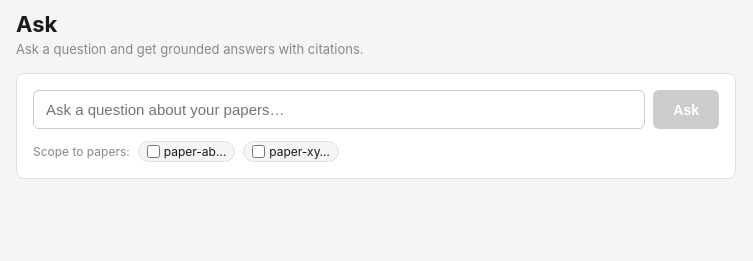
Test case: Ask screen › shows loading state while asking
The image size is (753, 261).
Type "test question" into the field with test id "ask-input".
click(339, 110); type("test question")  # box [33, 90, 645, 129]
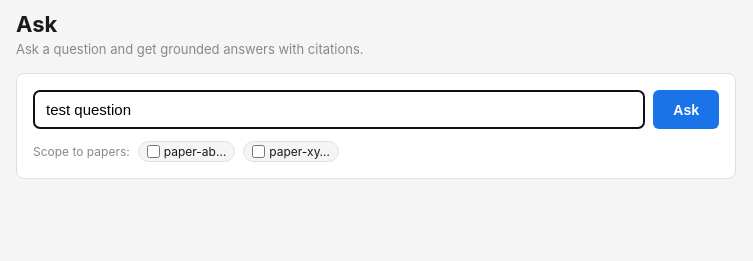
Click the button with test id "ask-submit".
click(686, 110)  # box [653, 90, 719, 129]
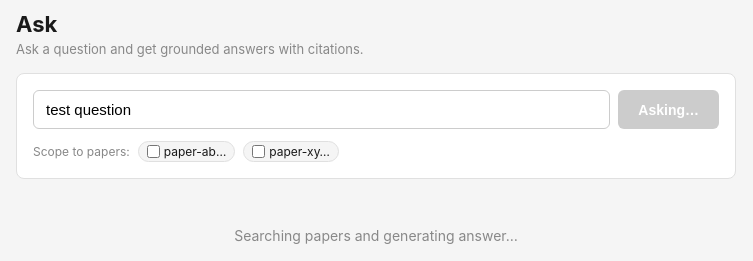
expect the text with test id "ask-loading" reads "Searching papers and generating answer…": met, box [234, 227, 518, 244]
